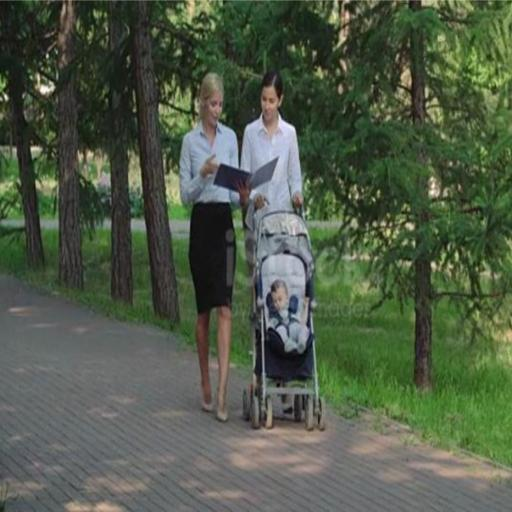glass_wall: (0, 276, 512, 512)
people: (242, 211, 325, 430)
